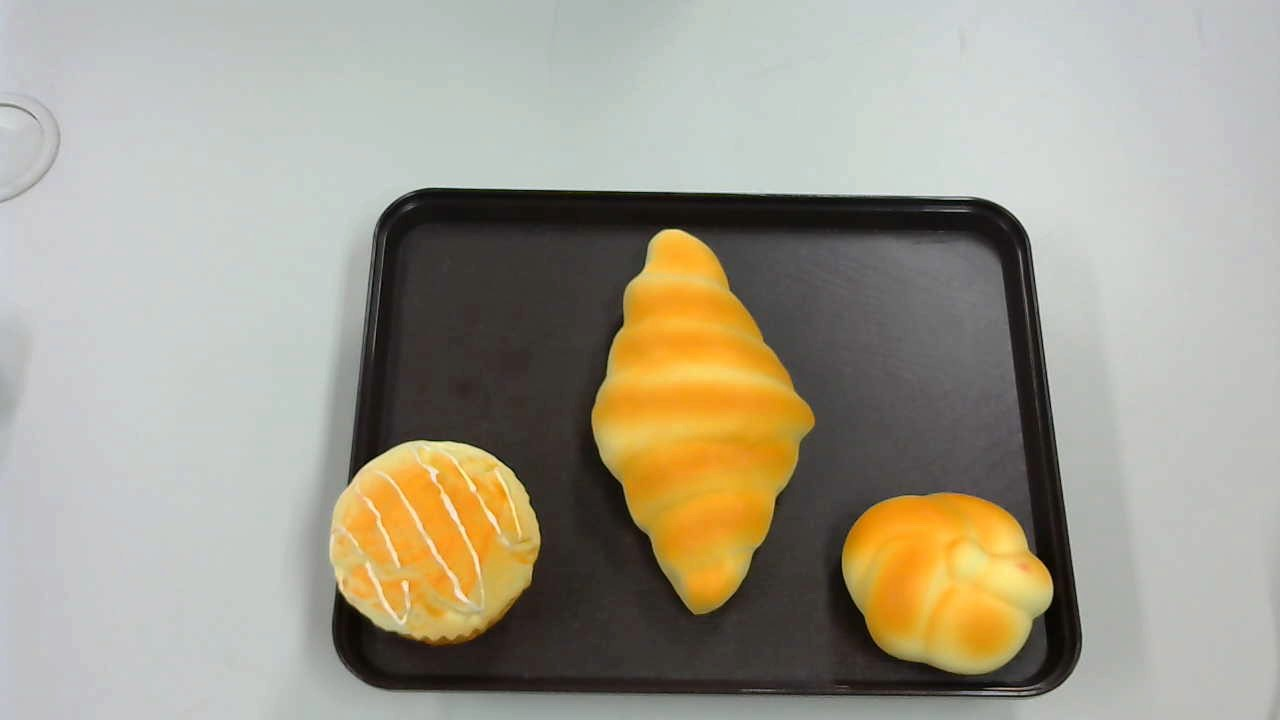croissant: (591, 228, 815, 617), (842, 492, 1054, 674)
cupcake: (328, 438, 542, 644)
